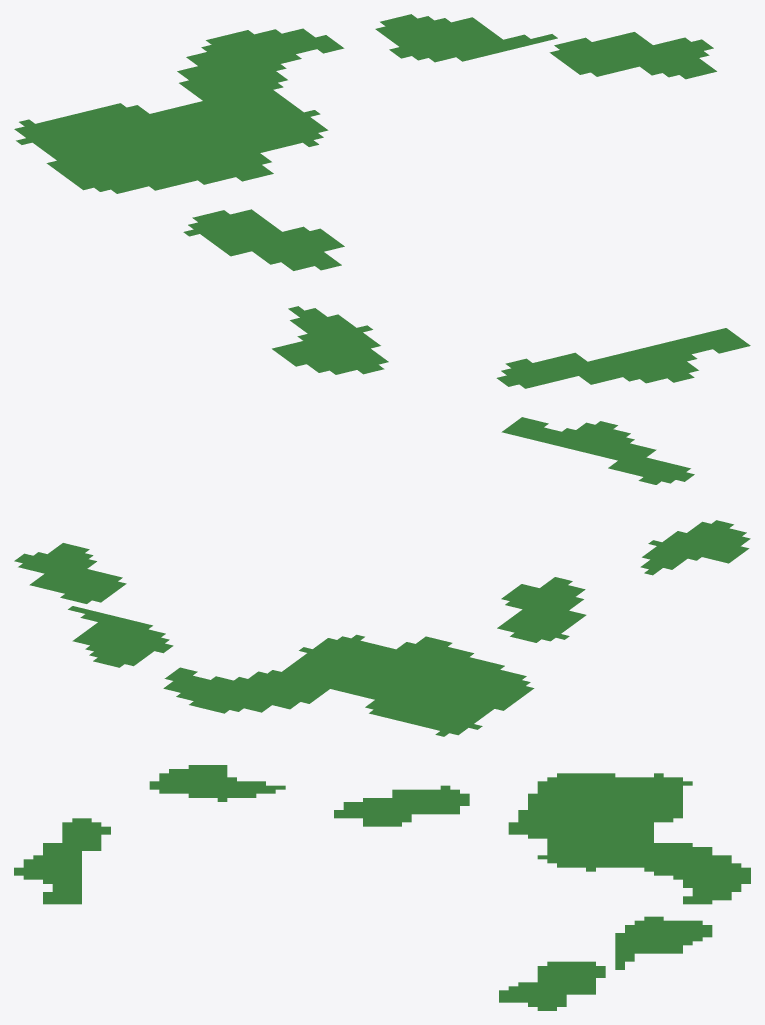
The model's file is Isl-hilly6-TreesArea.fbx.
3 views of the same model, one above another, from view 1: azimuth 30°, elevation 25°; view 2: azimuth 150°, elevation 25°; view 3: azimuth 270°, elevation 25° (orthographic). The views are drawn at different scales.
Parts seen in each view (by area): view 1: Isl-hilly6-TreesArea; view 2: Isl-hilly6-TreesArea; view 3: Isl-hilly6-TreesArea.
Part boxes in pixels (x1,y1,x2,y2): Isl-hilly6-TreesArea: (14,14,750,388); Isl-hilly6-TreesArea: (14,417,750,736); Isl-hilly6-TreesArea: (14,765,750,1010).
Size of the model in its own units: 60 by 0 by 76.
